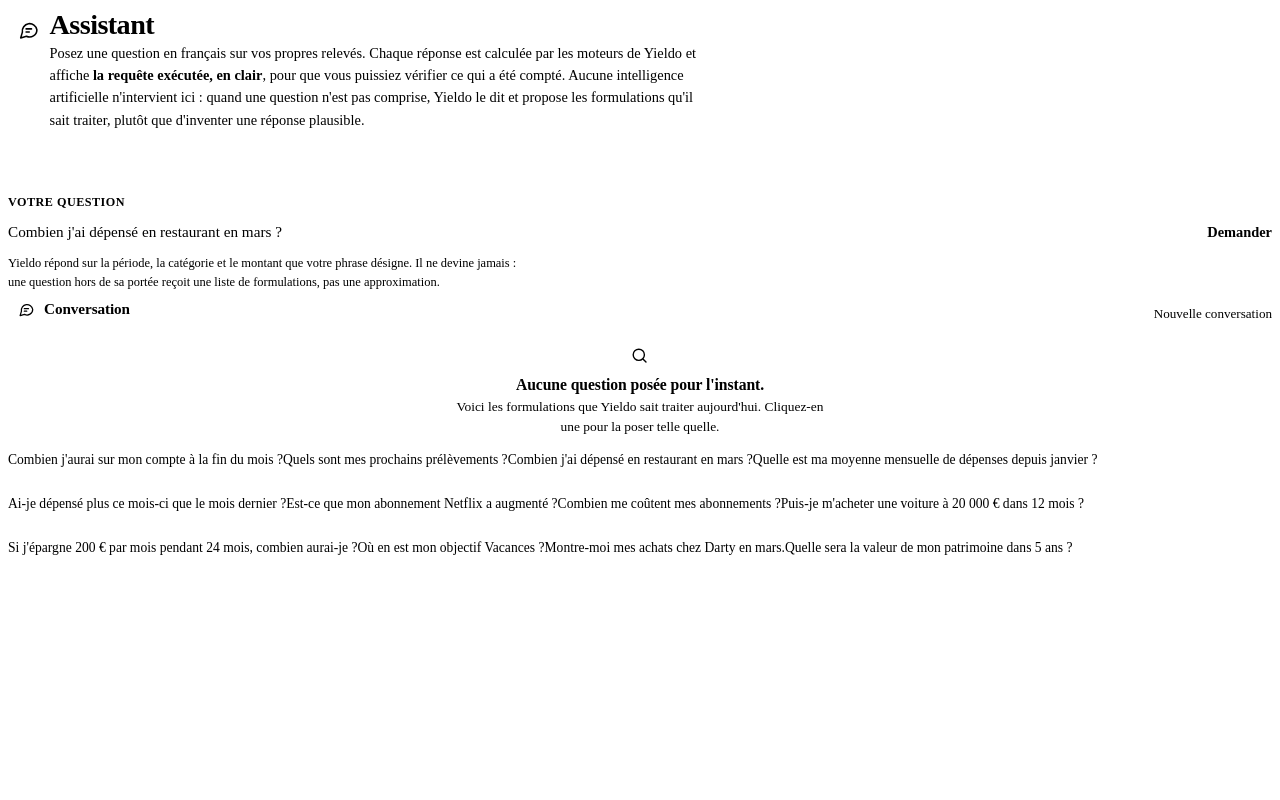
asking › shows a failed round trip as an alert, not as an answer
The width and height of the screenshot is (1280, 800).
Expected: the element with test id "yd-assistant-empty" is shown, [8,336,1272,569]
Type "Quelle sera la valeur de mon patrimoine dans 900 ans ?" into the field labelled "Votre question" at (608, 232), box [8,210,1207,254]
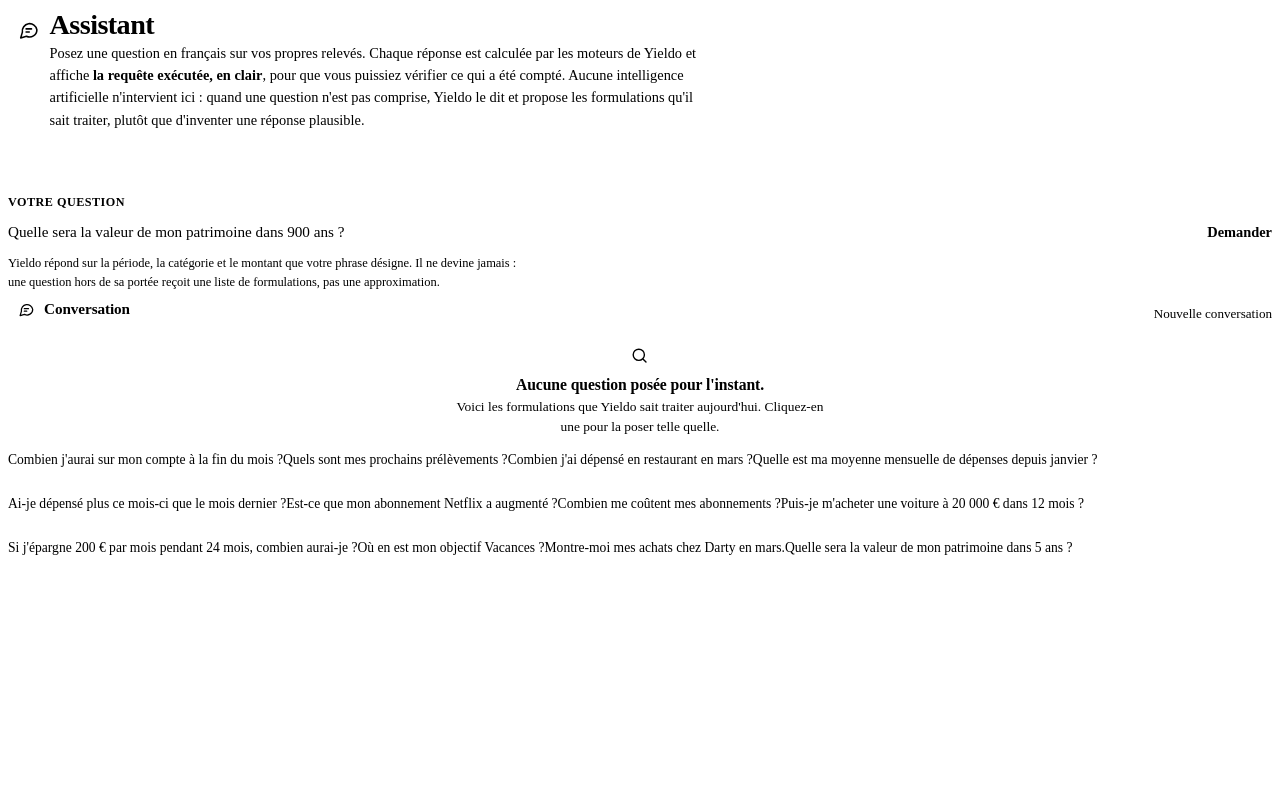
Click the button "Demander" at (1240, 232), box [1207,210,1272,254]
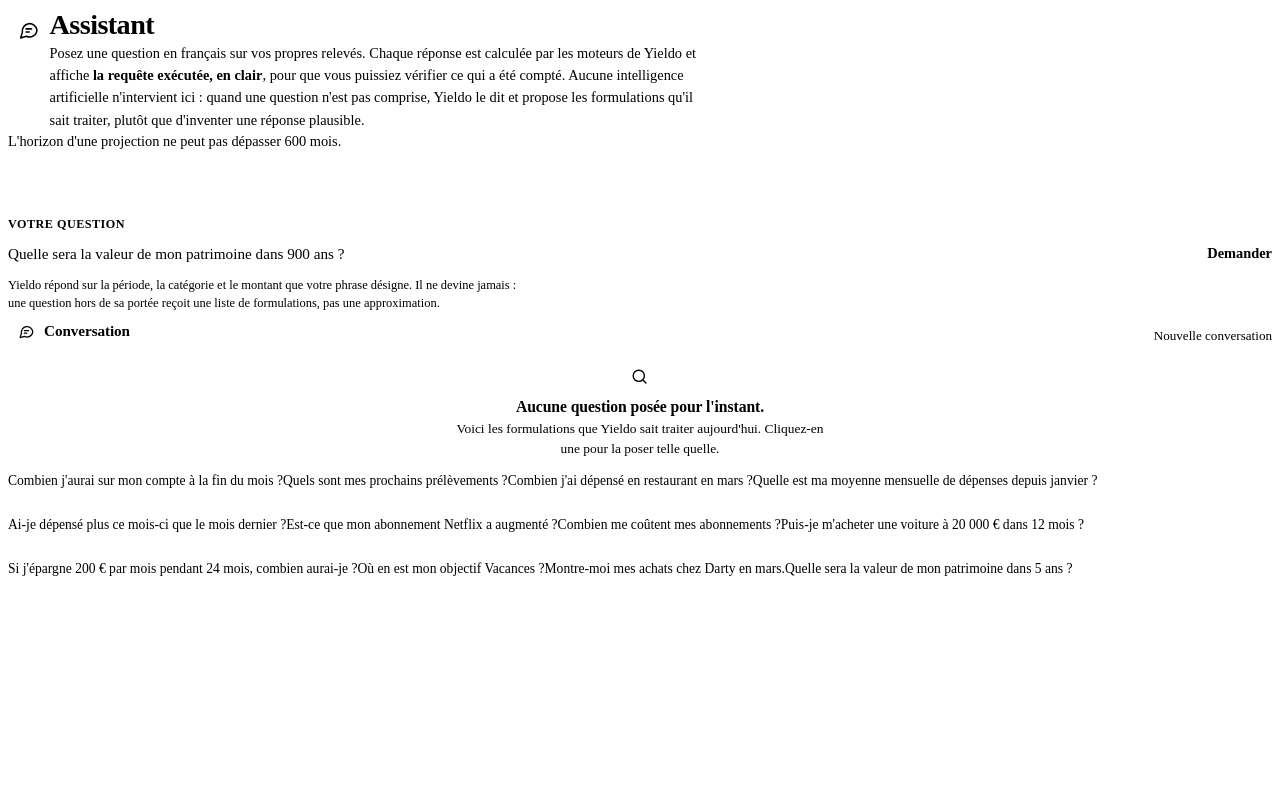
Expected: the message with test id "yd-assistant-error" reads "L'horizon d'une projection ne peut pas dépasser 600 mois.", [8,133,341,149]
